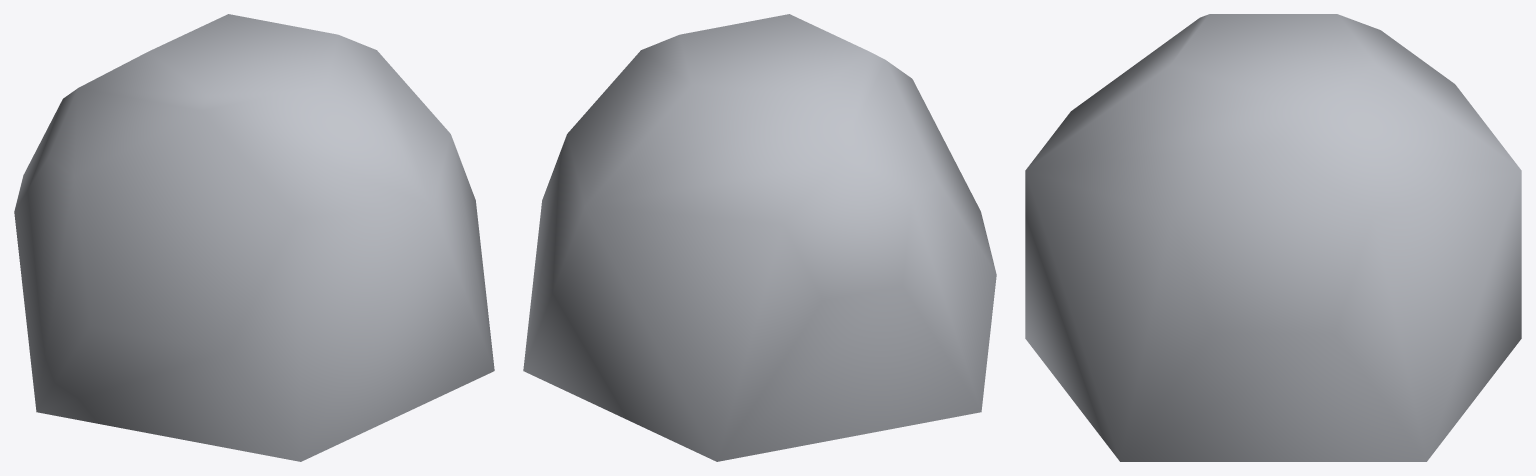
Rendered from Rock_B.fbx.
3 views of the same model, side by side, from view 1: azimuth 30°, elevation 25°; view 2: azimuth 150°, elevation 25°; view 3: azimuth 270°, elevation 25° (orthographic). The views are drawn at different scales.
Parts seen in each view (by area): view 1: Rock_B; view 2: Rock_B; view 3: Rock_B.
Part boxes in pixels (bbox=[...]): Rock_B: bbox=[14, 14, 494, 461]; Rock_B: bbox=[523, 14, 996, 461]; Rock_B: bbox=[1025, 14, 1521, 461].
Size of the model in its own units: 70.01 by 49.55 by 69.25.
